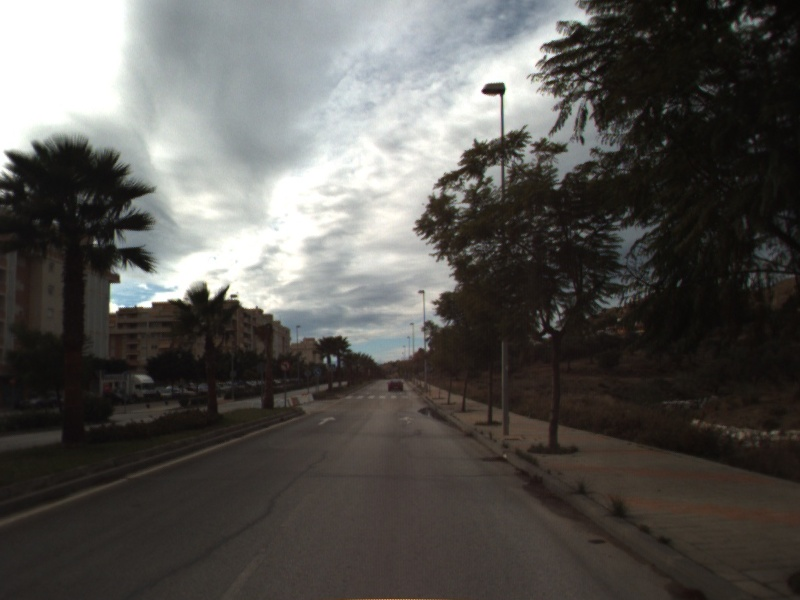STRAIGHT: (315, 414, 338, 427)
